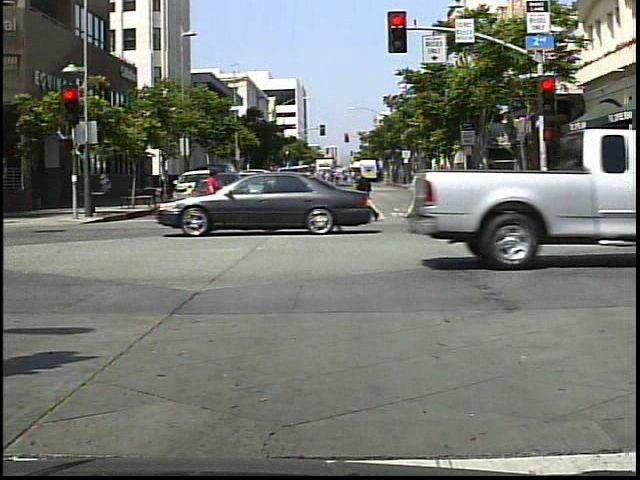person: (349, 165, 384, 233), (401, 162, 433, 226), (566, 158, 589, 207), (199, 166, 221, 196)
